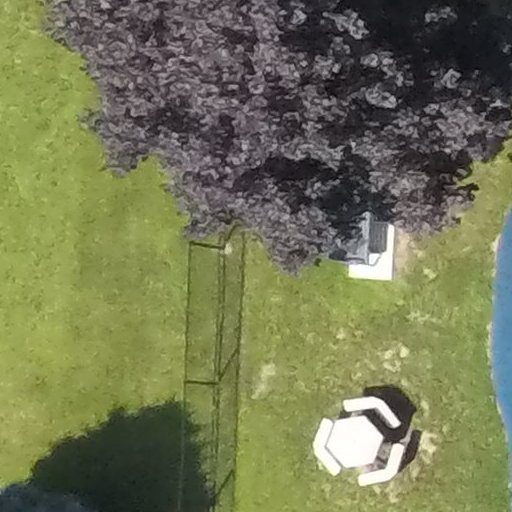fence: (178, 211, 234, 512)
table: (306, 387, 414, 490)
